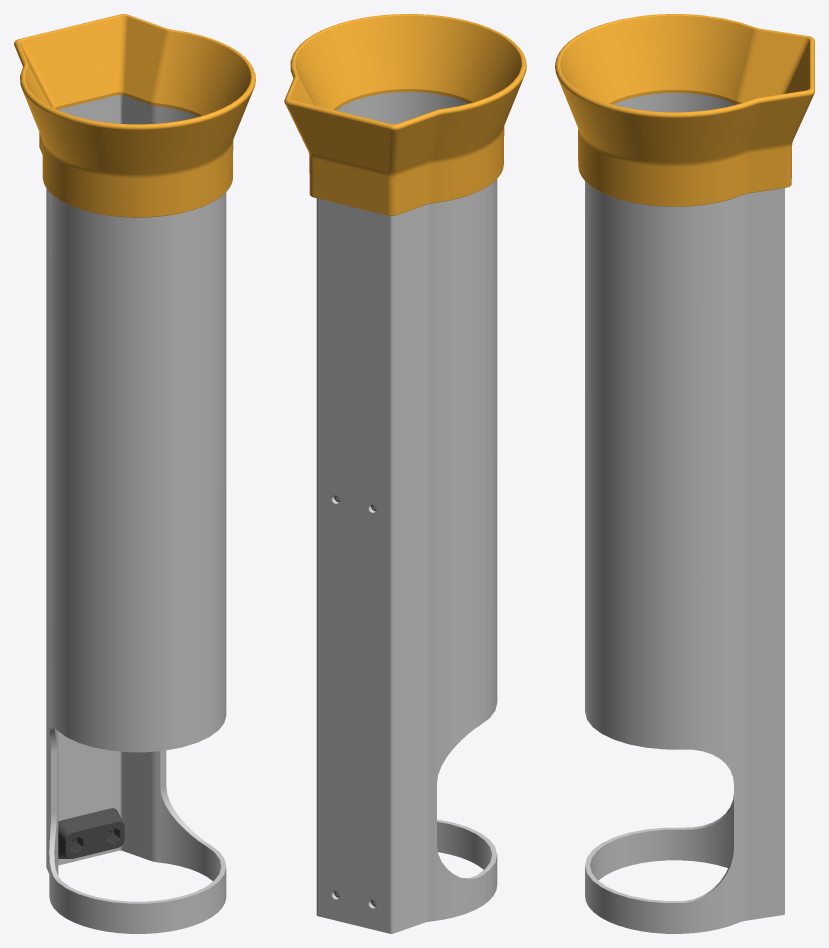
The model's file is Loader.fbx.
3 views of the same model, side by side, from view 1: azimuth 30°, elevation 25°; view 2: azimuth 150°, elevation 25°; view 3: azimuth 270°, elevation 25° (orthographic).
Parts seen in each view (by area): view 1: Body1_2; view 2: Body1_2; view 3: Body1_2.
Boxes of the visible parts, left/top/right/bottom form: Body1_2: left=14, top=14, right=255, bottom=933; Body1_2: left=284, top=14, right=526, bottom=933; Body1_2: left=555, top=14, right=814, bottom=933.
Size of the model in its own units: 55.64 by 213 by 60.38.
